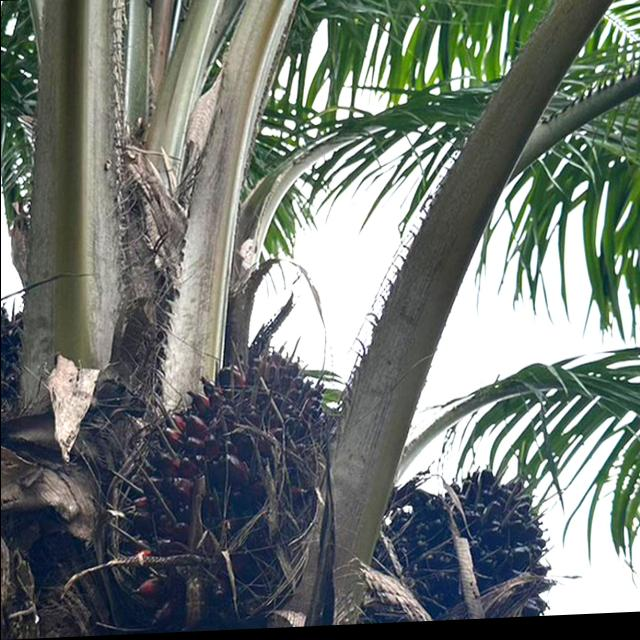ripe: (99, 315, 353, 637)
